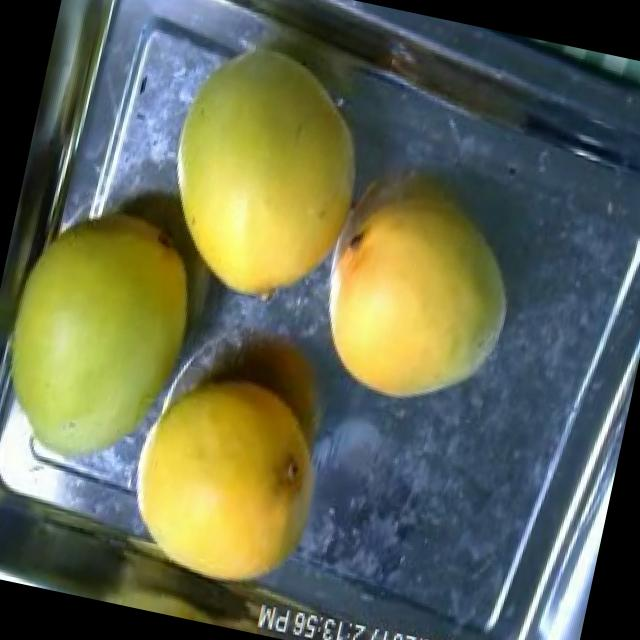fruit: (132, 11, 412, 330), (274, 134, 558, 442), (0, 176, 232, 501), (95, 340, 355, 616)
